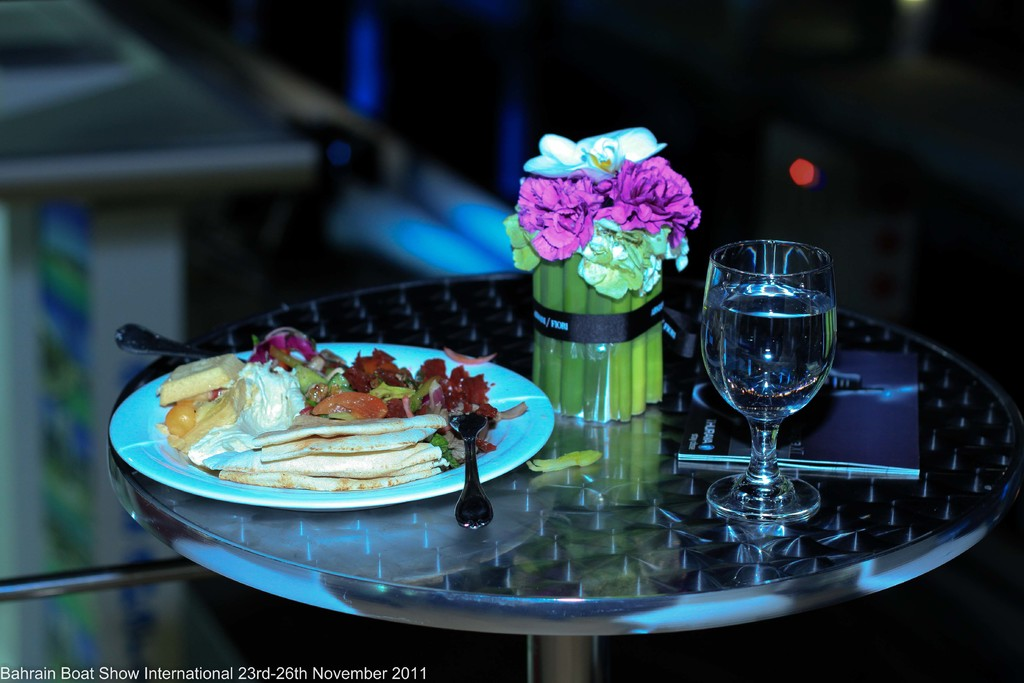taco: (179, 332, 516, 505)
